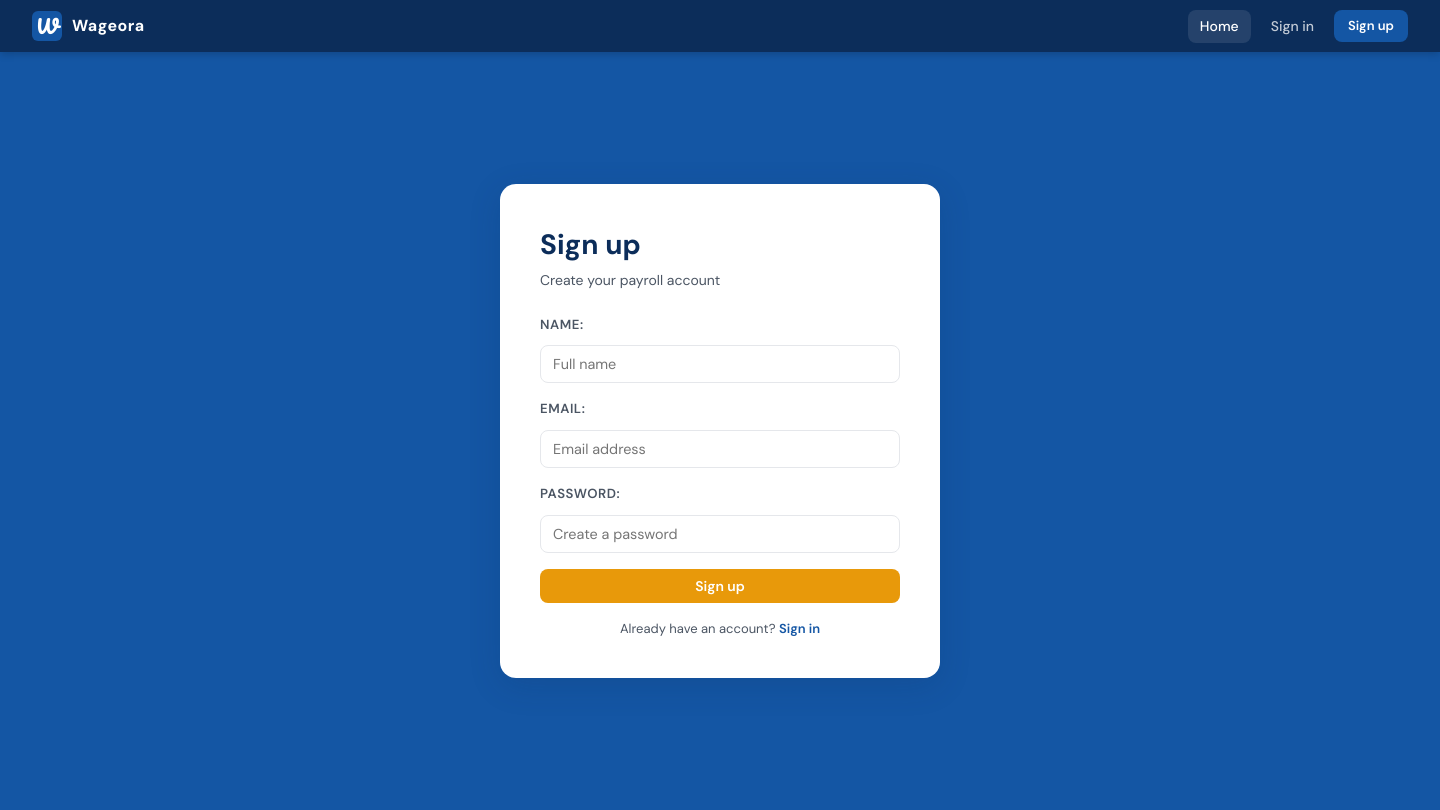
Test: SignUpPage › shows name error when name is too short
The width and height of the screenshot is (1440, 810).
Type "A" into the field with placeholder "Full name" at (720, 364), box [540,345,900,383]
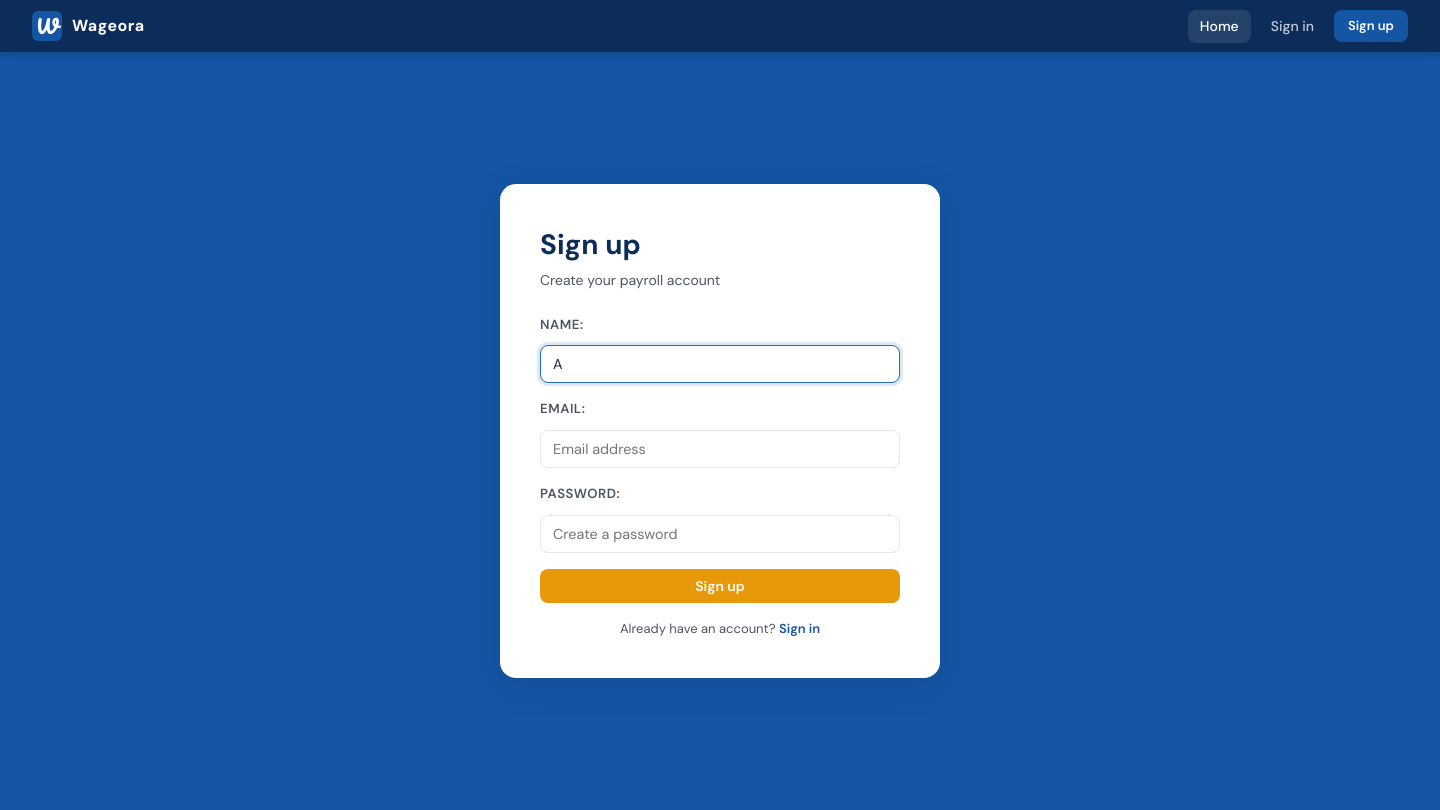
Type "a@b.com" into the field with placeholder "Email address" at (720, 449), box [540,430,900,468]
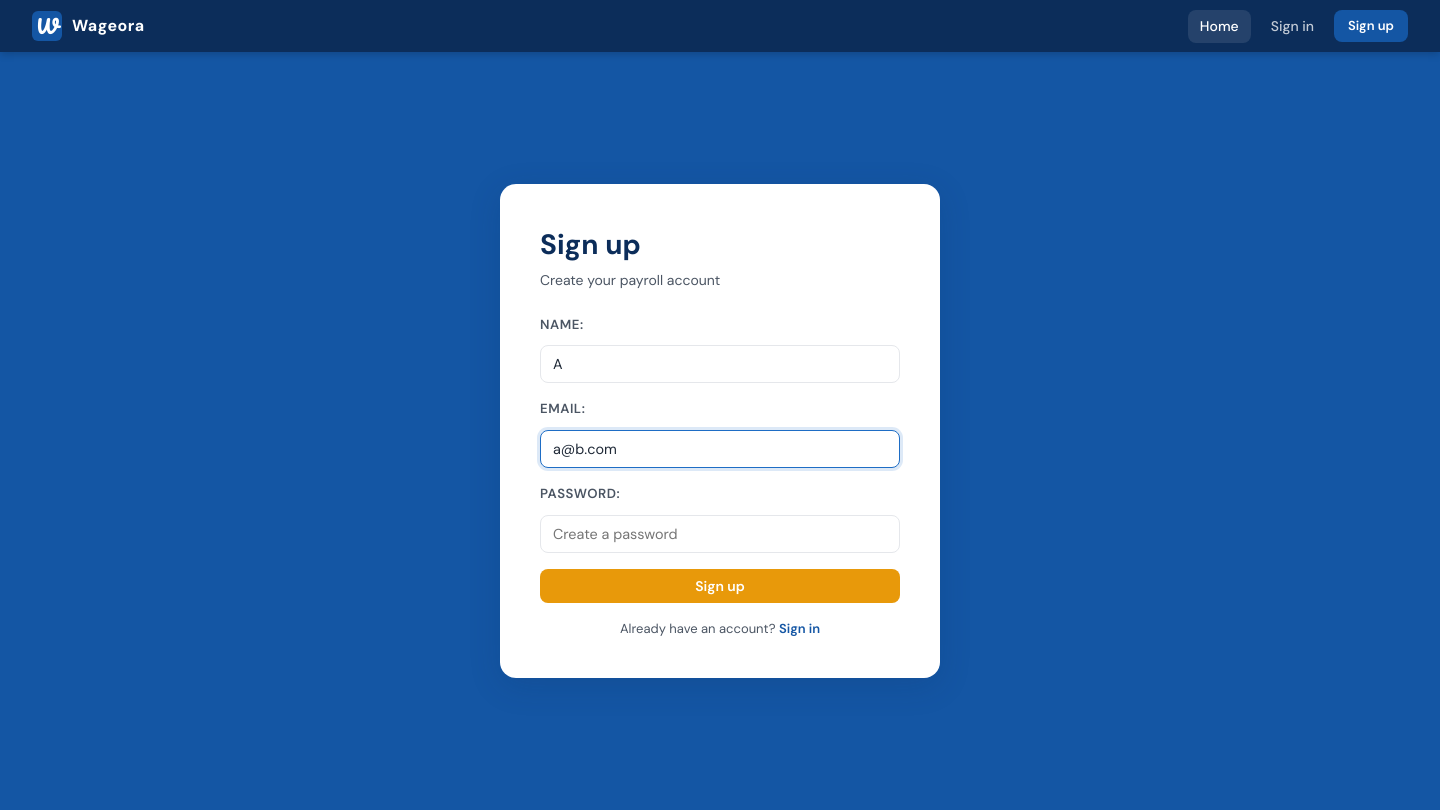
Type "pass123" into the password field with placeholder "Create a password" at (720, 534), box [540,515,900,553]
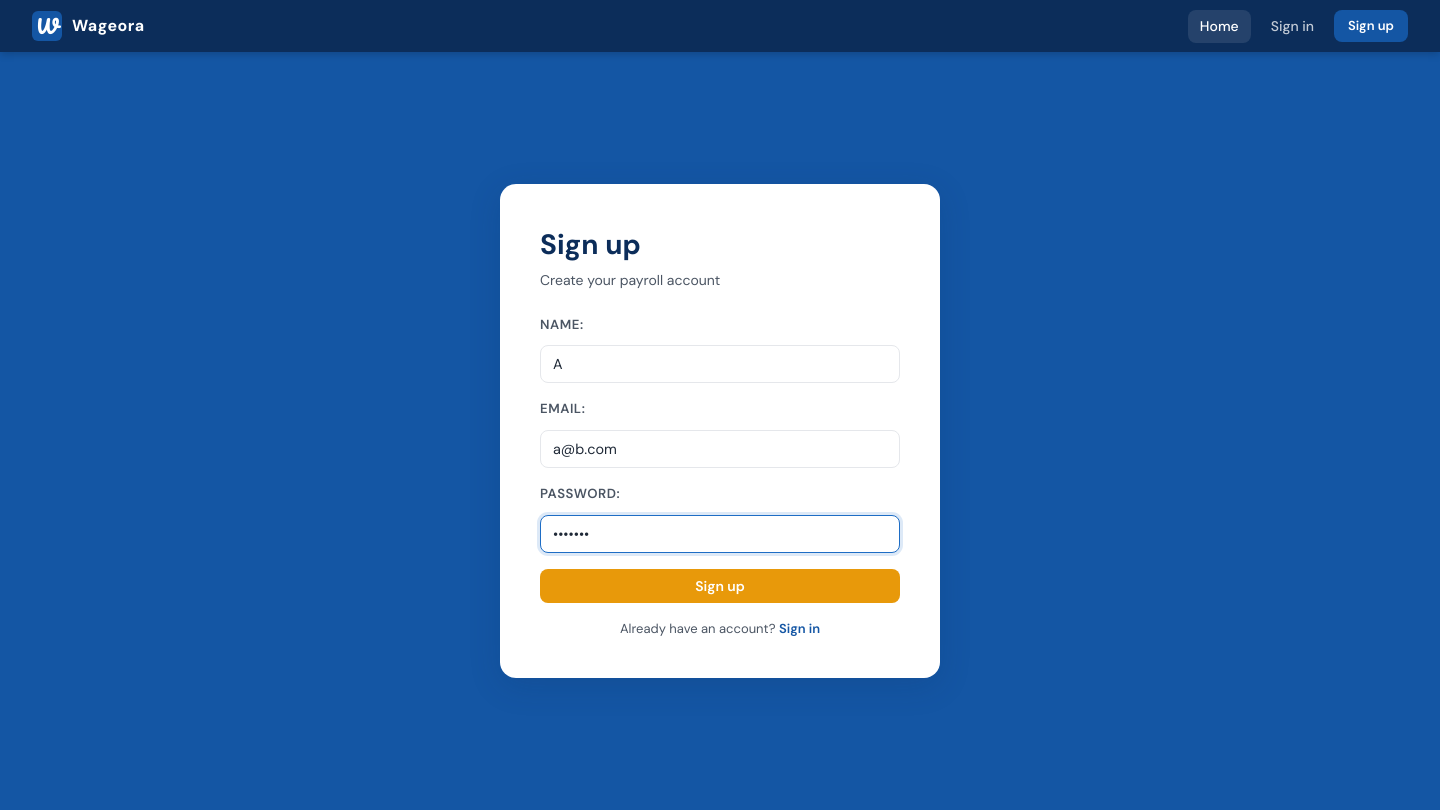
Click the button "Sign up" at (720, 586), box [540,569,900,603]
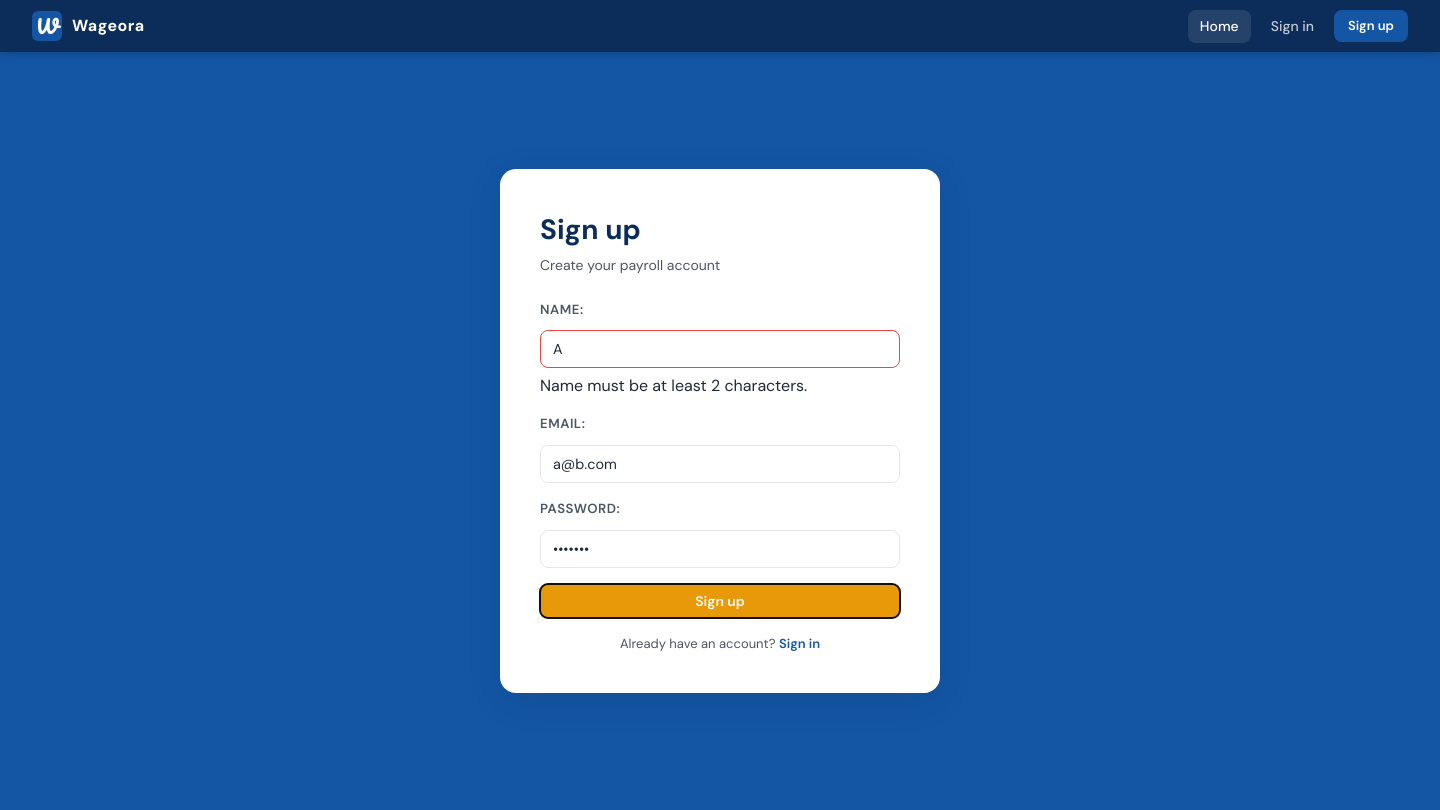
Expected: the text "Name must be at least 2 characters." is shown, [540,375,807,396]
